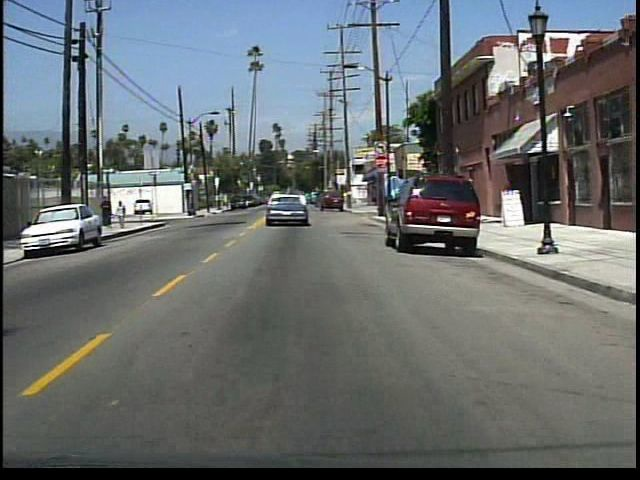person: (101, 196, 117, 230), (117, 199, 131, 231)
